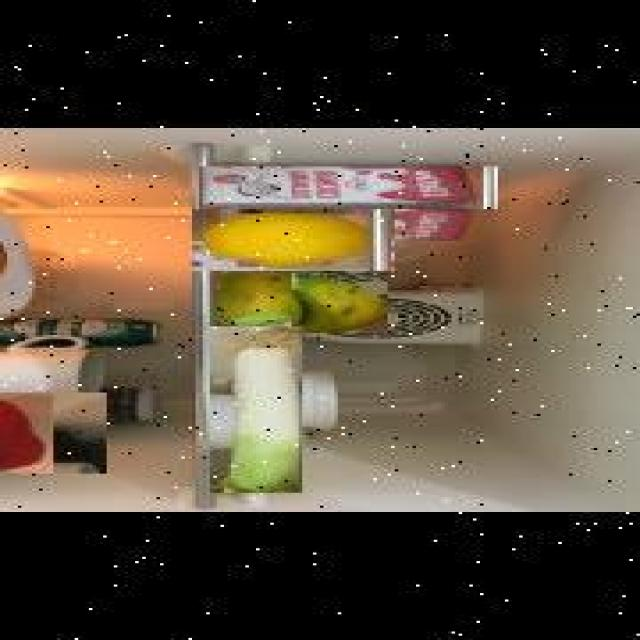banana: (288, 273, 384, 333)
bell_pepper: (0, 392, 107, 473)
heavy_cream: (201, 166, 492, 209)
leek: (212, 327, 304, 494)
lemon: (192, 209, 391, 271)
